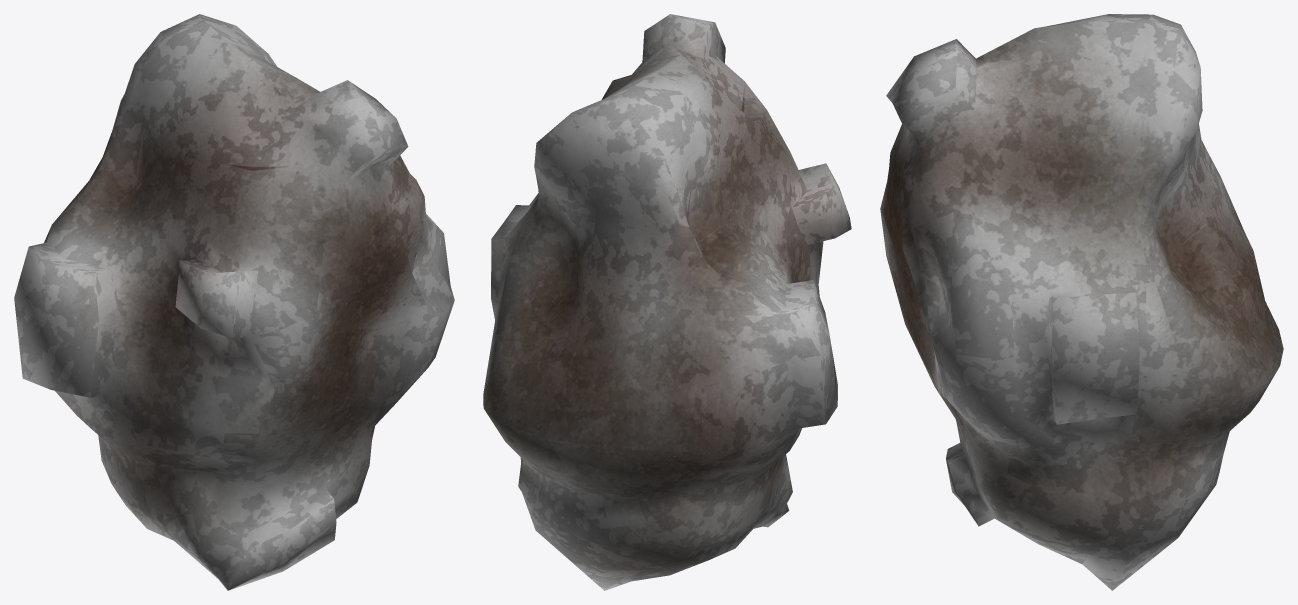
Rendered from Silver.fbx.
3 views of the same model, side by side, from view 1: azimuth 30°, elevation 25°; view 2: azimuth 150°, elevation 25°; view 3: azimuth 270°, elevation 25° (orthographic). The views are drawn at different scales.
Visible parts, largest first — view 1: Silver; view 2: Silver; view 3: Silver.
Boxes of the visible parts, x1,y1,x2,y2 form: Silver: [14, 14, 454, 590]; Silver: [483, 14, 851, 590]; Silver: [880, 14, 1283, 590].
Bounding box in the file's own units: 7.4 × 10.48 × 7.
1 material, 1 textured.
